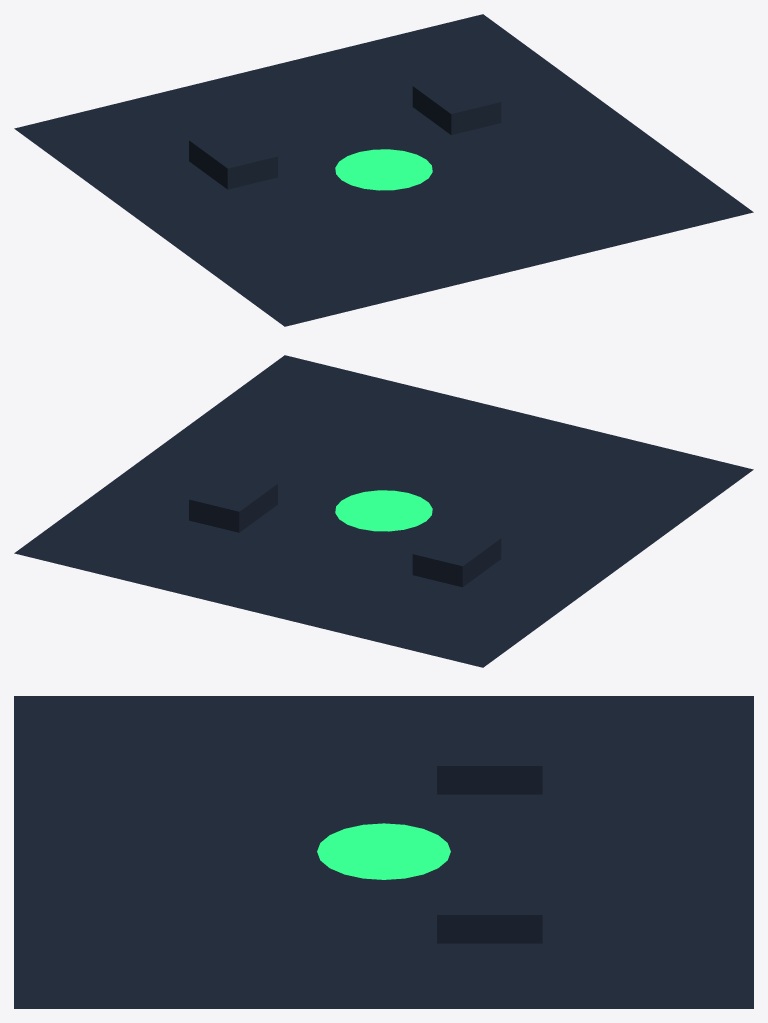
Rendered from dng_03.glb.
3 views of the same model, one above another, from view 1: azimuth 30°, elevation 25°; view 2: azimuth 150°, elevation 25°; view 3: azimuth 270°, elevation 25° (orthographic). The views are drawn at different scales.
Parts seen in each view (by area): view 1: scenario_base_floor, DNG_03; view 2: scenario_base_floor, DNG_03; view 3: scenario_base_floor, DNG_03.
Boxes of the visible parts, x1=… form: scenario_base_floor: x1=14, y1=14, x2=753, y2=326; DNG_03: x1=189, y1=73, x2=501, y2=190; scenario_base_floor: x1=14, y1=355, x2=753, y2=667; DNG_03: x1=189, y1=471, x2=501, y2=587; scenario_base_floor: x1=14, y1=696, x2=753, y2=1008; DNG_03: x1=317, y1=732, x2=542, y2=943.
Size of the model in its own units: 42 by 1.8 by 42.
